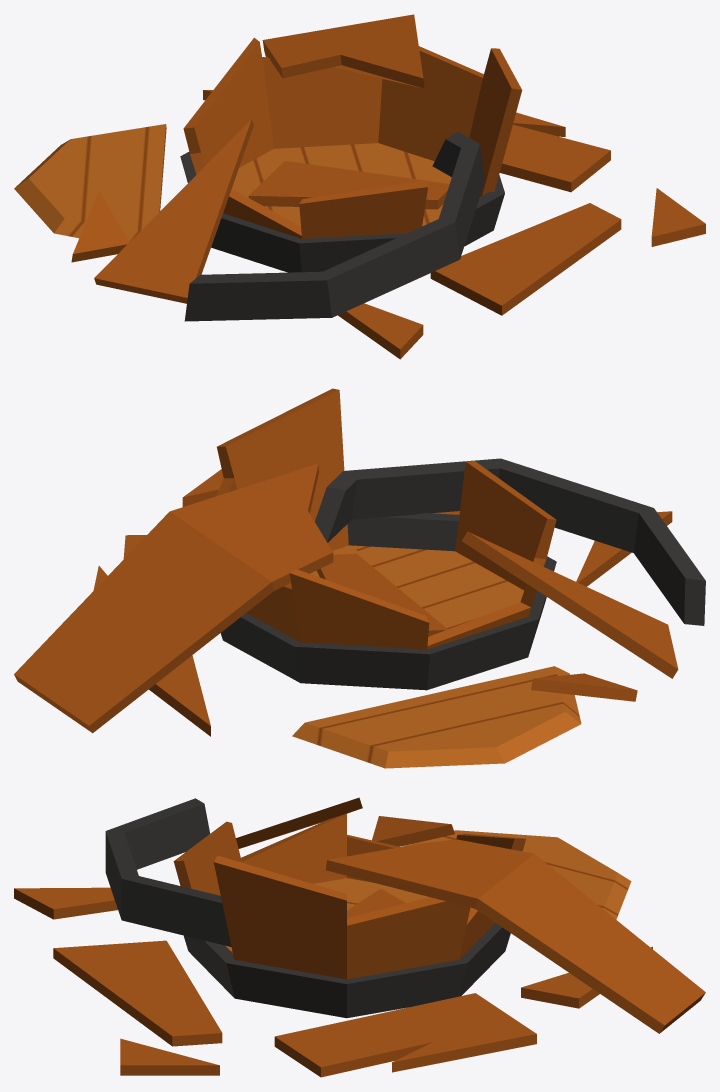
The model's file is Barrel_01_Broken.fbx.
3 renders of one model, top to bottom at view 1: azimuth 30°, elevation 25°; view 2: azimuth 150°, elevation 25°; view 3: azimuth 270°, elevation 25°, orthographic. The views are drawn at different scales.
Parts seen in each view (by area): view 1: Barrel_01_Broken; view 2: Barrel_01_Broken; view 3: Barrel_01_Broken.
Boxes of the visible parts, left/top/right/bottom form: Barrel_01_Broken: left=14, top=14, right=705, bottom=359; Barrel_01_Broken: left=14, top=388, right=705, bottom=768; Barrel_01_Broken: left=14, top=797, right=705, bottom=1077.
Bounding box in the file's own units: 108 × 29.22 × 123.
1 material, 1 textured.
